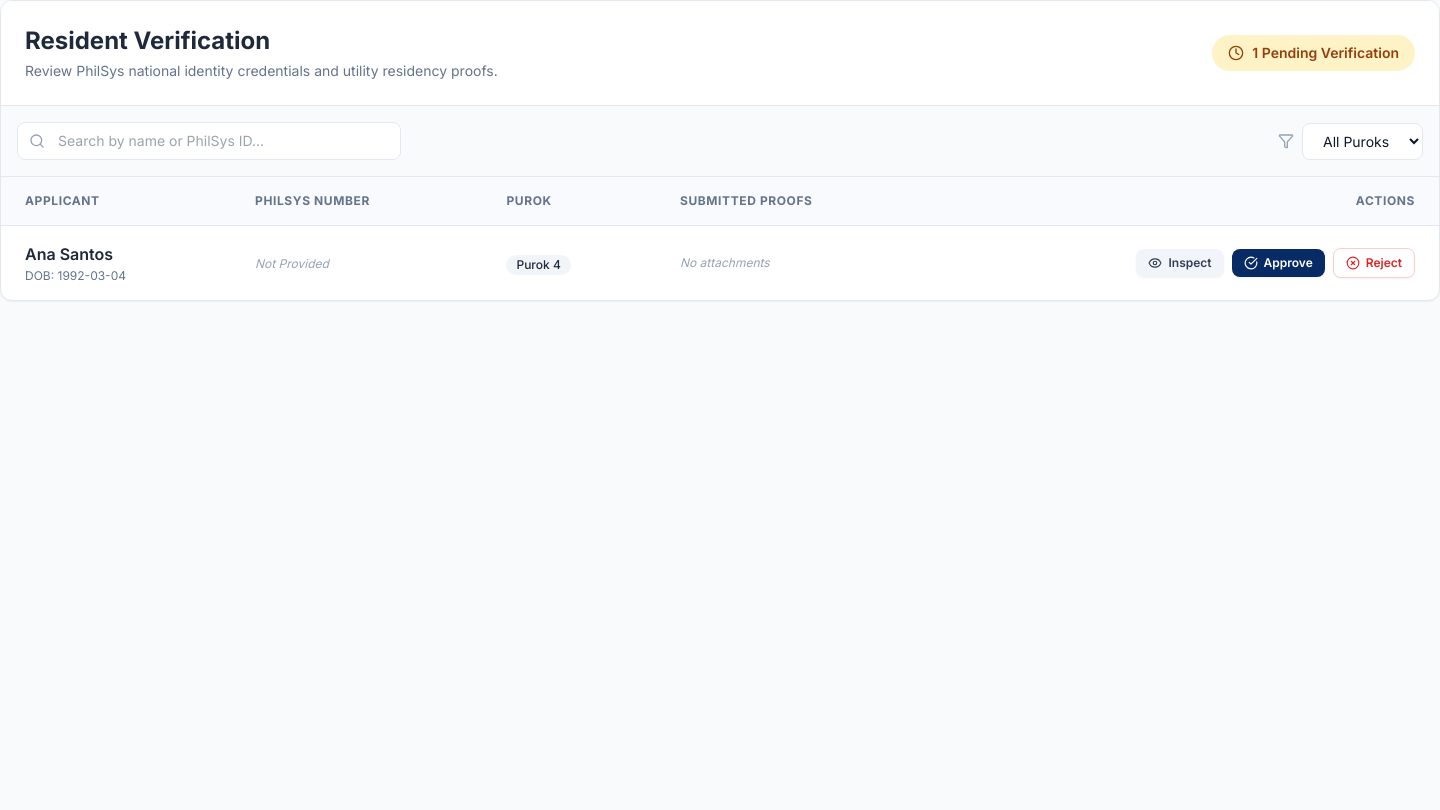
Scenario: ResidentVerification Component › opens the resident dossier and approves from the inspected view
This screenshot has width=1440, height=810.
Expected: the text "Ana Santos" is shown, [25,244,113,264]
What coordinates should you click on to do the following:
click the button "Inspect"
I would click on:
 (1180, 263)
Its box is [1136,249,1224,277].
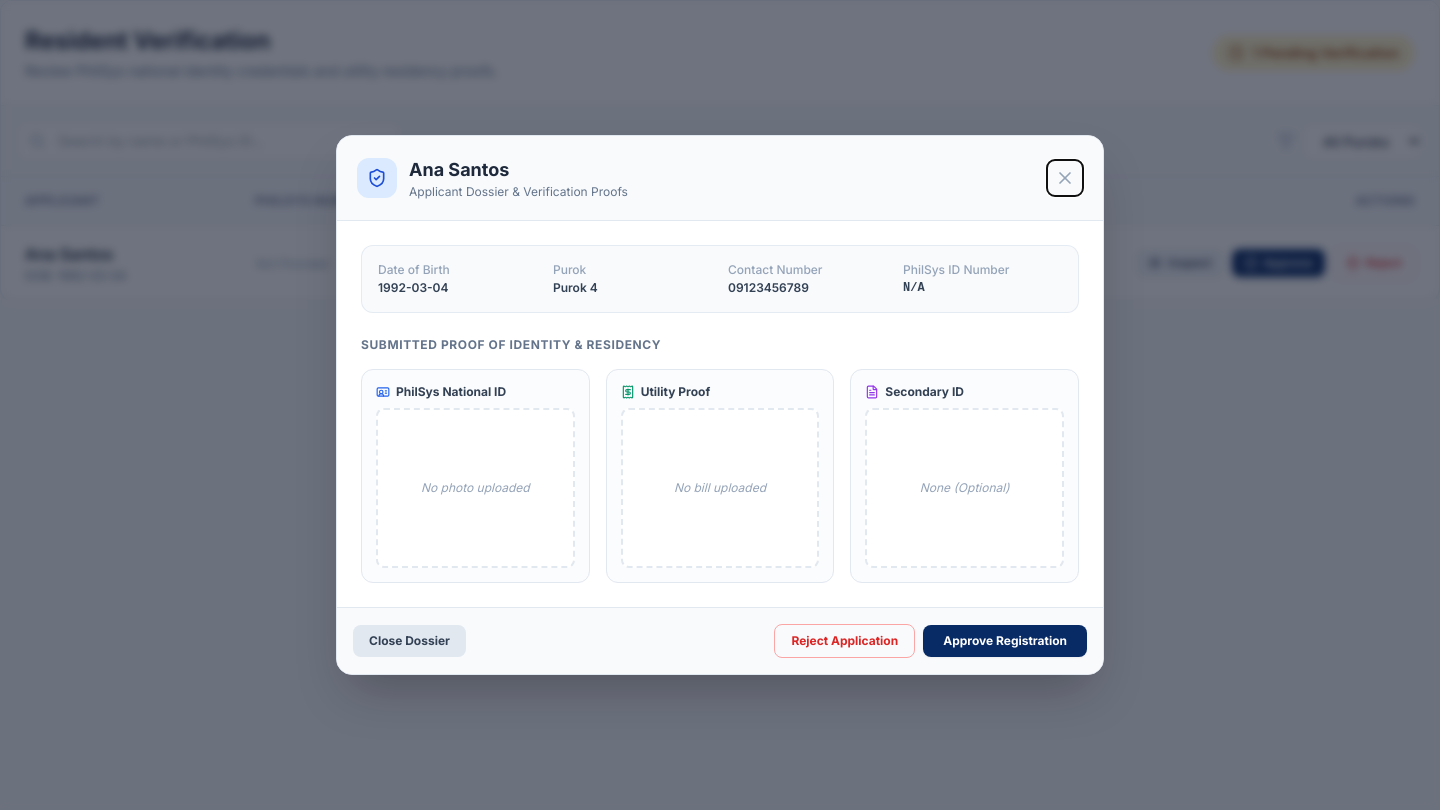
Now the dialog "Ana Santos" shows "Applicant Dossier & Verification Proofs", box [409,184,628,199]
What coordinates should you click on to do the following:
click the button "Approve Registration"
I would click on:
 (1005, 641)
Its box is [923,625,1087,657].
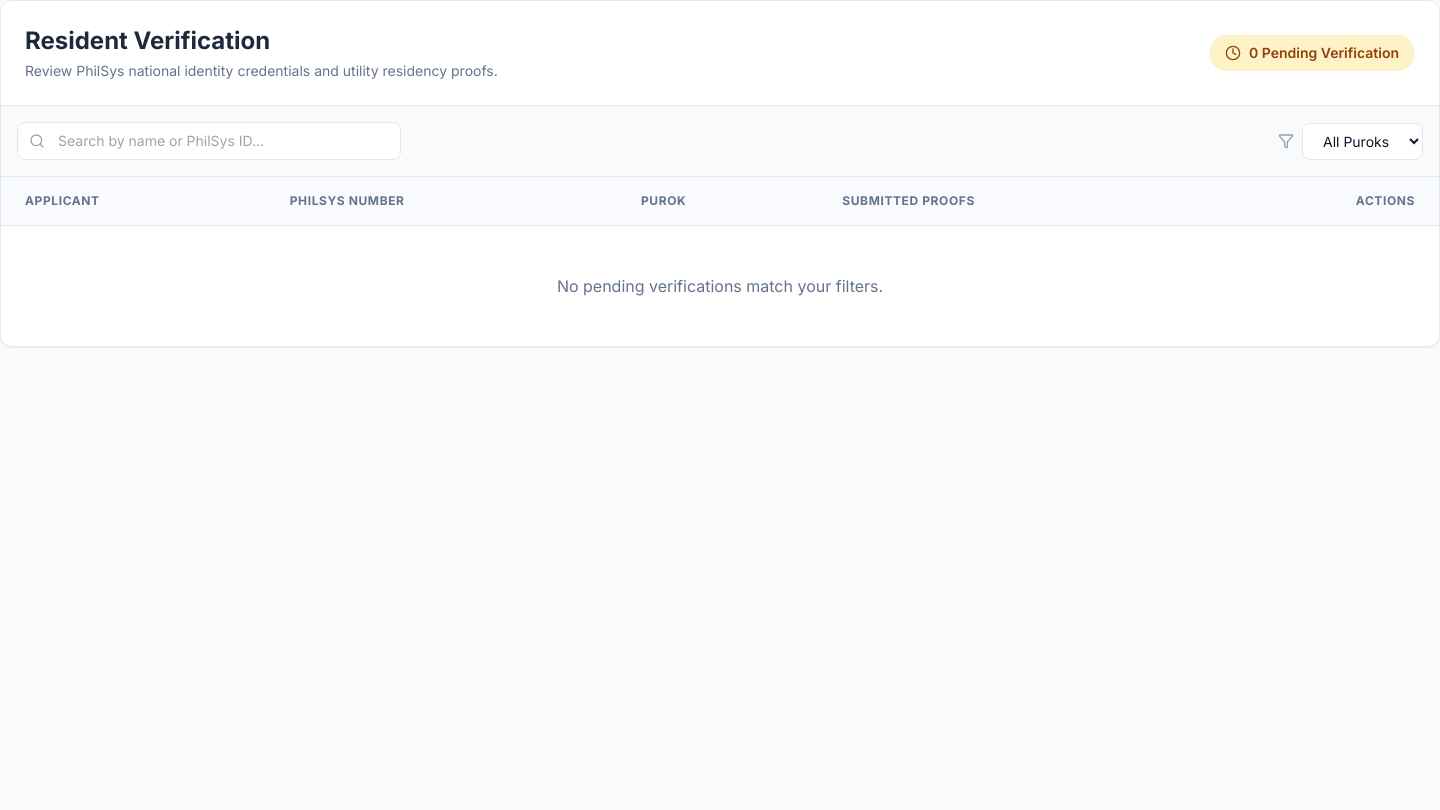
Now the text "Ana Santos" is gone
